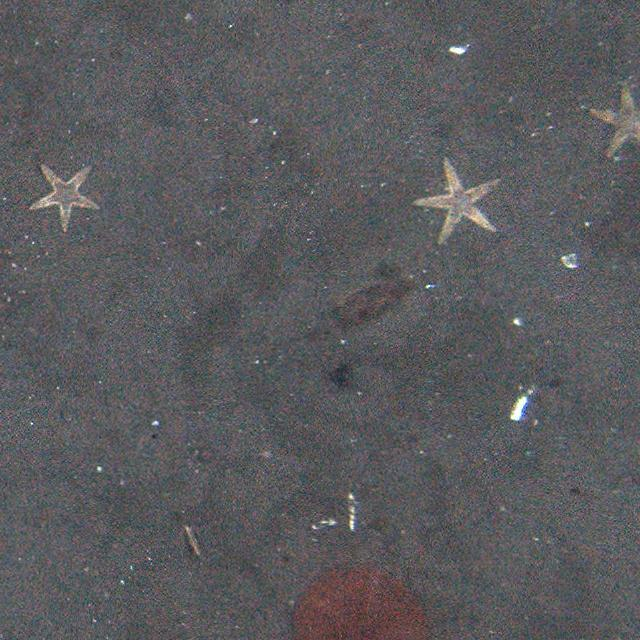flatfish: (280, 263, 416, 351)
